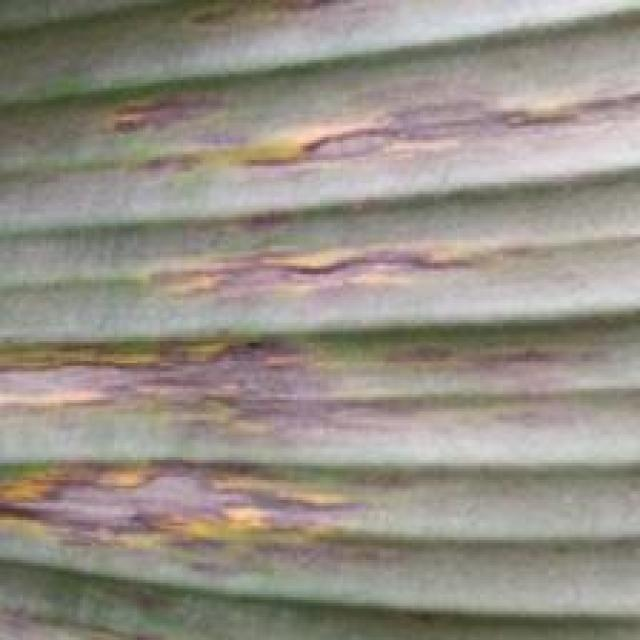Early_leaf_spot: (0, 314, 614, 450), (0, 420, 417, 601), (240, 66, 628, 170), (101, 221, 533, 301), (82, 80, 235, 182), (112, 0, 368, 46)
